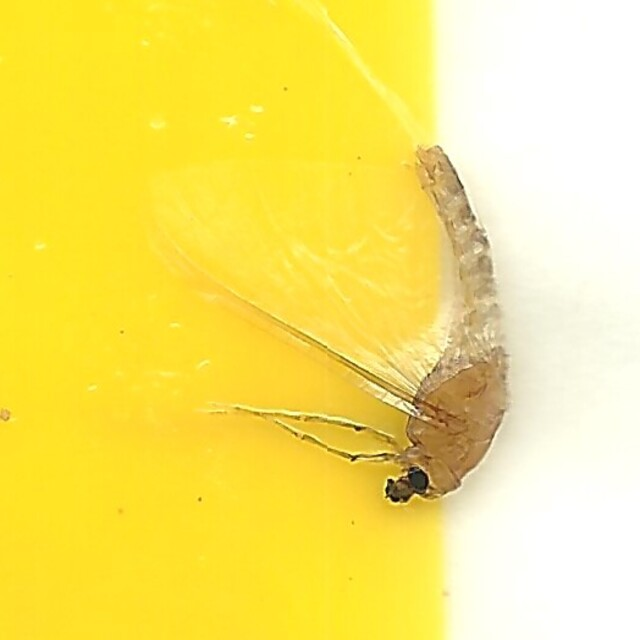Ephemeroptera: (122, 125, 518, 515)
